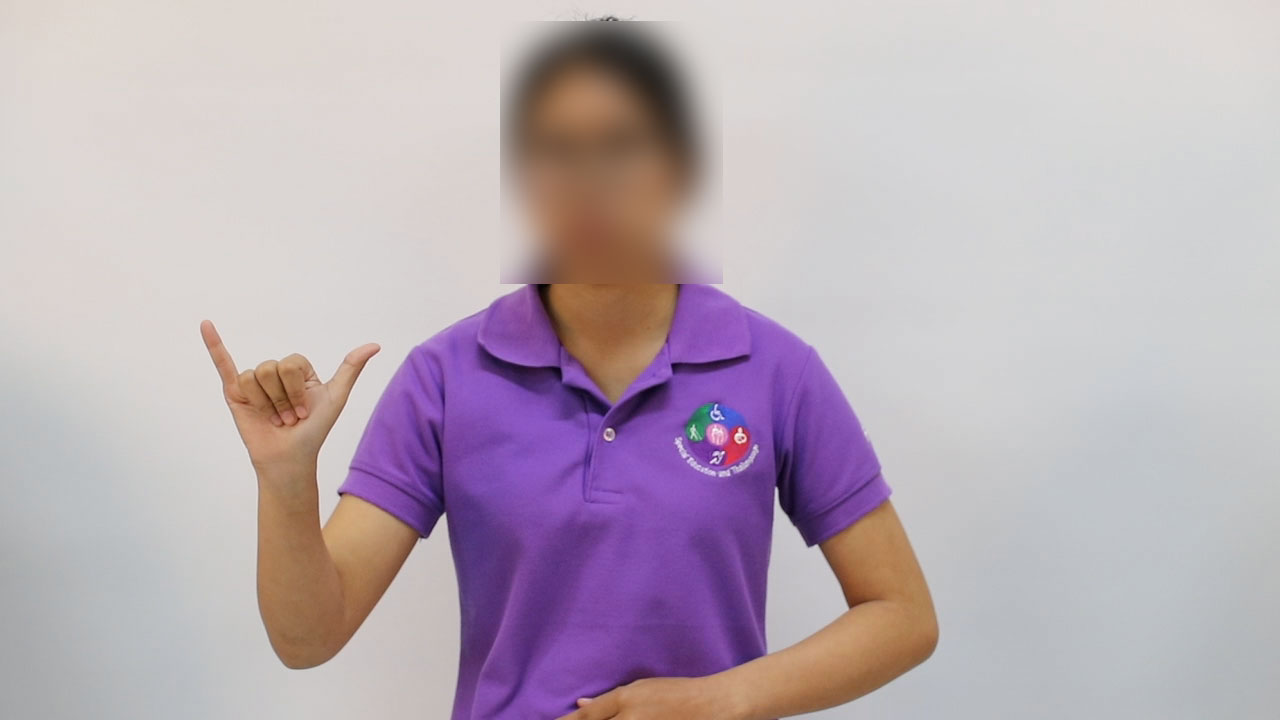yor: (181, 305, 402, 491)
